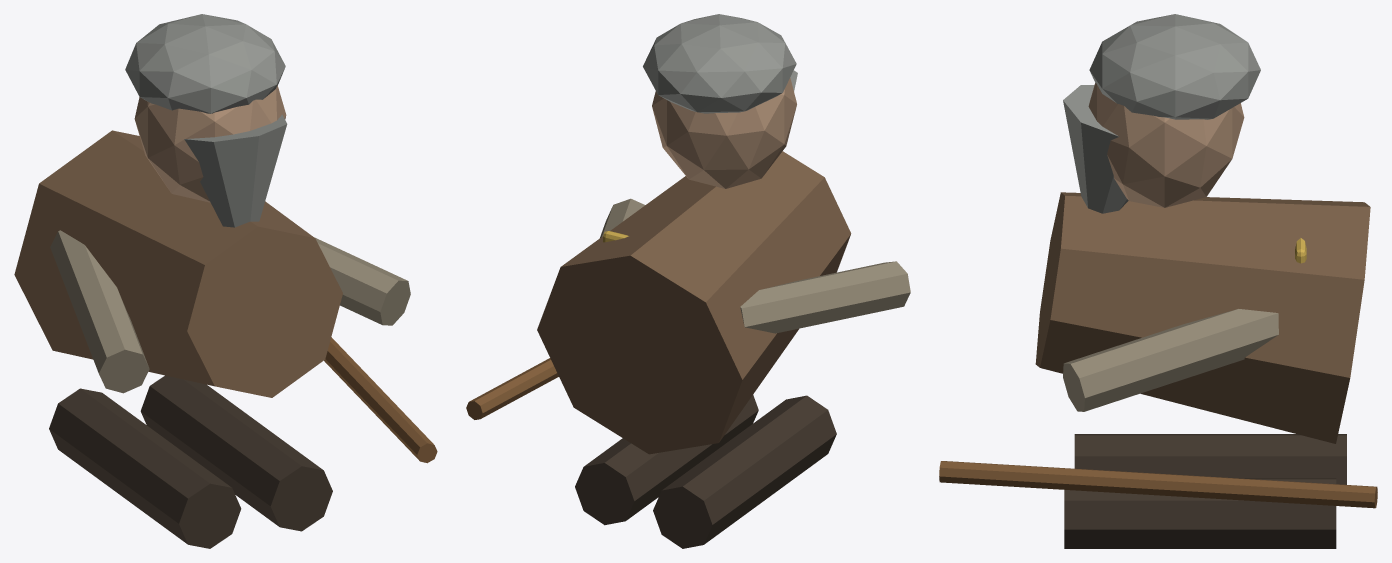
The model's file is old_man_3993.glb.
3 views of the same model, side by side, from view 1: azimuth 30°, elevation 25°; view 2: azimuth 150°, elevation 25°; view 3: azimuth 270°, elevation 25° (orthographic). The views are drawn at different scales.
Visible parts, largest first — view 1: Slumped ragged coat, Left boot and leg, Right boot and leg, Messy hair, Hanging arm, Head, Drooping beard, Hanging arm.001, Walking stick; view 2: Slumped ragged coat, Left boot and leg, Messy hair, Head, Hanging arm, Right boot and leg, Walking stick, Hanging arm.001; view 3: Slumped ragged coat, Right boot and leg, Messy hair, Left boot and leg, Head, Hanging arm.001, Walking stick, Drooping beard.
Part boxes in pixels (x1,y1,x2,y2): Slumped ragged coat: (14, 130, 342, 397); Left boot and leg: (49, 388, 241, 548); Right boot and leg: (140, 375, 332, 531); Messy hair: (125, 14, 285, 113); Hanging arm: (50, 230, 149, 393); Head: (134, 85, 286, 202); Drooping beard: (184, 114, 287, 227); Hanging arm.001: (314, 237, 410, 325); Walking stick: (324, 337, 437, 463); Slumped ragged coat: (537, 151, 851, 454); Left boot and leg: (653, 395, 836, 548); Messy hair: (643, 14, 796, 113); Head: (652, 78, 796, 188); Hanging arm: (740, 261, 910, 333); Right boot and leg: (575, 395, 758, 525); Walking stick: (466, 358, 558, 419); Hanging arm.001: (600, 198, 645, 237); Slumped ragged coat: (1035, 192, 1370, 443); Right boot and leg: (1064, 478, 1336, 548); Messy hair: (1089, 14, 1260, 119); Left boot and leg: (1074, 434, 1346, 484); Head: (1088, 83, 1244, 207); Hanging arm.001: (1063, 309, 1278, 411); Walking stick: (939, 461, 1377, 508); Drooping beard: (1063, 85, 1128, 213).
Size of the model in its own units: 1.86 by 2.63 by 2.09.
